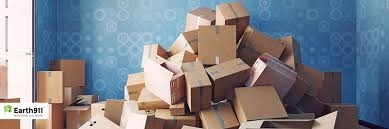paper: (228, 82, 296, 124), (242, 51, 301, 99), (202, 56, 258, 105), (192, 21, 244, 69), (137, 52, 182, 106), (214, 2, 264, 43), (178, 61, 214, 114), (177, 5, 221, 42), (63, 93, 101, 129), (49, 55, 90, 88), (34, 68, 67, 105), (87, 97, 124, 129), (120, 69, 153, 104)
